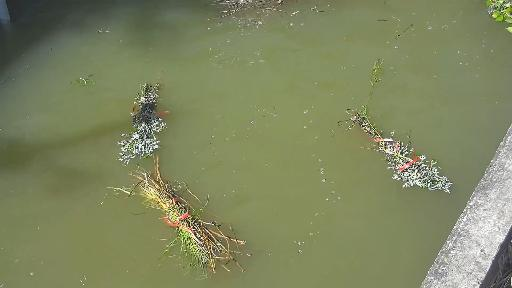leaf: (67, 74, 99, 88)
twig: (346, 55, 461, 197), (130, 166, 266, 270), (122, 76, 195, 163), (215, 0, 309, 24), (486, 0, 512, 19)
